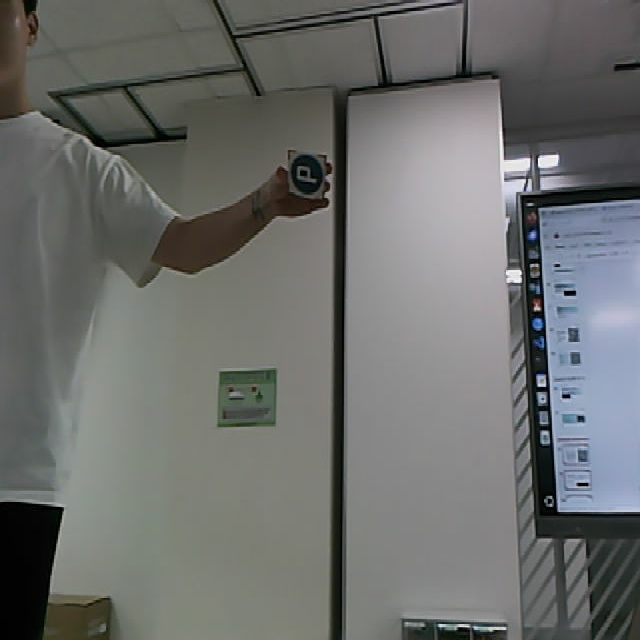parking: (288, 150, 327, 201)
